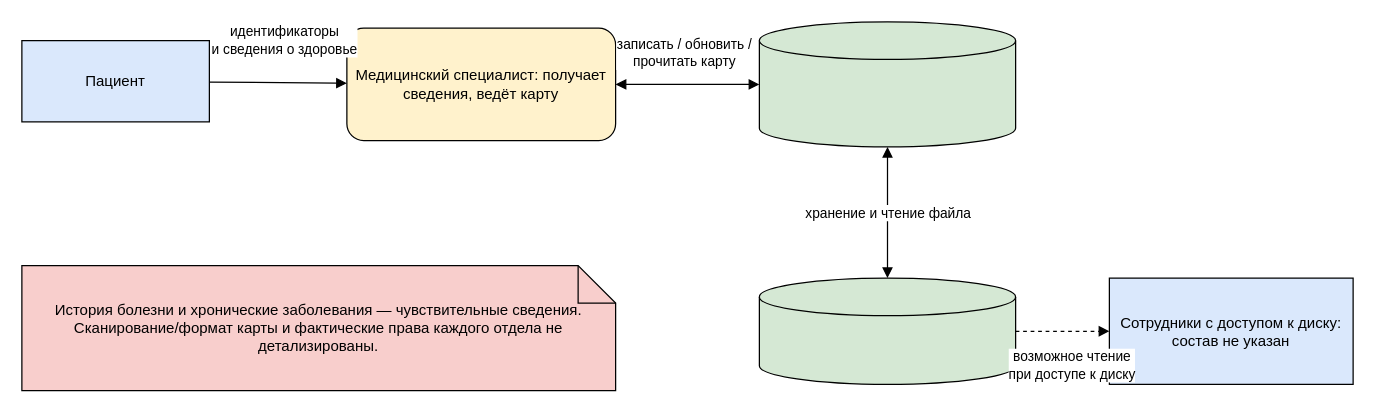
Image size: 1375x413. Some labels were removed from this diagram. Here are the shapes that lost their labels. From the top down, the box of each, then its label:
(758, 21, 1016, 147): Медкарта: Excel и/или скан (JPG, PDF)
(758, 277, 1016, 384): Общий диск: файловый сервер Windows Server
